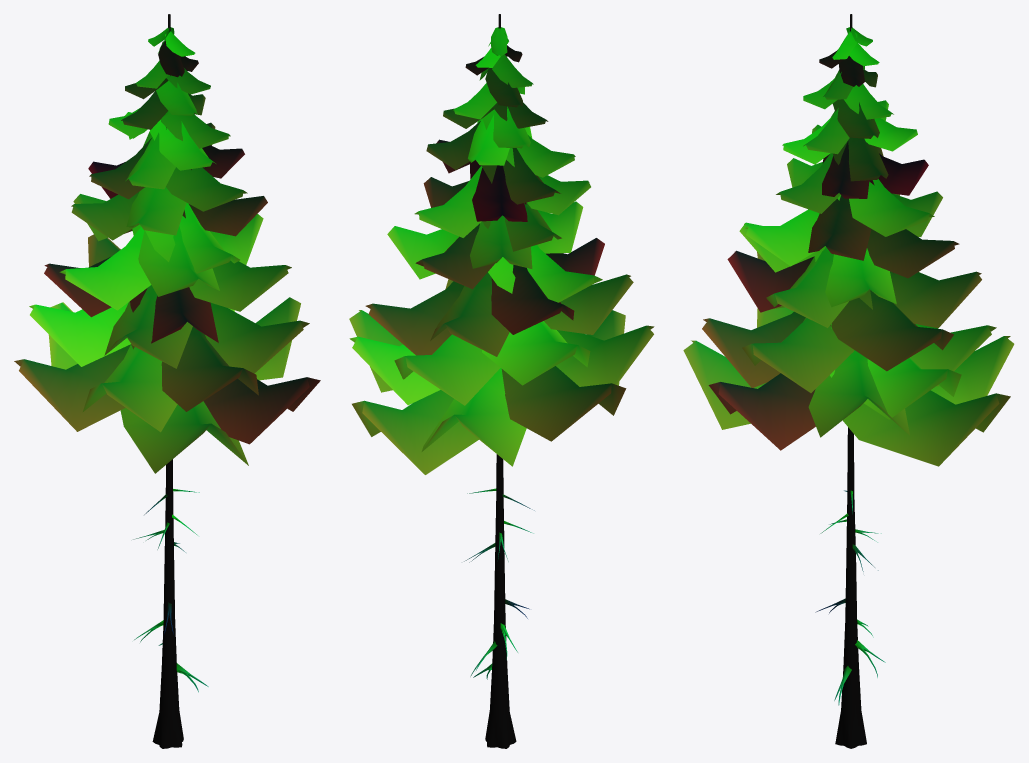
File: M_Pine_6_5.fbx
3 views of the same model, side by side, from view 1: azimuth 30°, elevation 25°; view 2: azimuth 150°, elevation 25°; view 3: azimuth 270°, elevation 25° (orthographic).
Visible parts, largest first — view 1: Tree_5; view 2: Tree_5; view 3: Tree_5.
Boxes of the visible parts, x1,y1,x2,y2 form: Tree_5: [14, 14, 320, 748]; Tree_5: [349, 14, 654, 748]; Tree_5: [683, 14, 1014, 748].
Size of the model in its own units: 1014 by 2565 by 1058.
